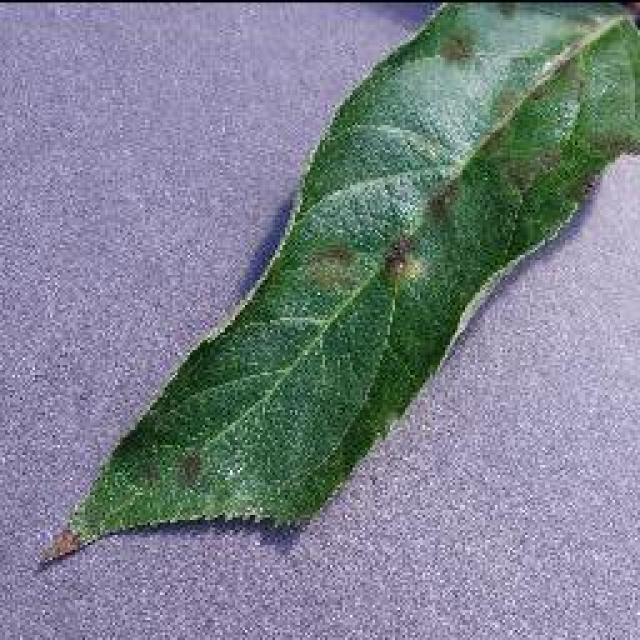apple scab disease: (35, 0, 637, 570)
